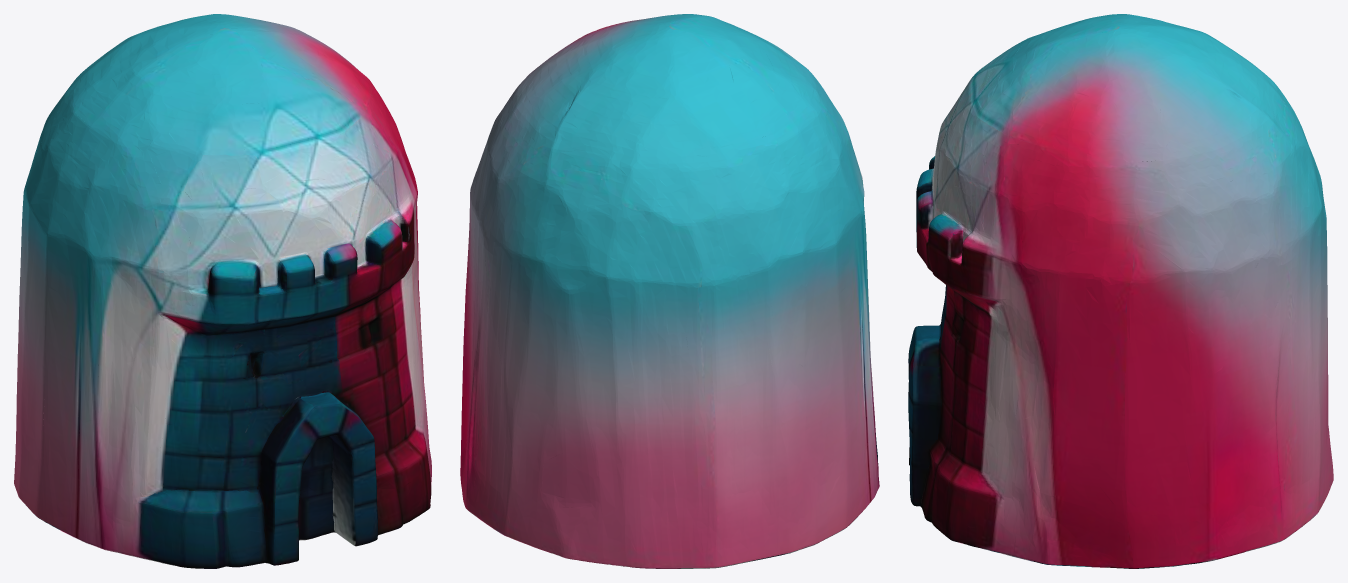
The model's file is BASTION.glb.
3 renders of one model, left to right at view 1: azimuth 30°, elevation 25°; view 2: azimuth 150°, elevation 25°; view 3: azimuth 270°, elevation 25°, orthographic.
Parts seen in each view (by area): view 1: BASTION_512; view 2: BASTION_512; view 3: BASTION_512.
Boxes of the visible parts, left/top/right/bottom form: BASTION_512: left=14, top=14, right=431, bottom=568; BASTION_512: left=460, top=14, right=879, bottom=568; BASTION_512: left=908, top=14, right=1333, bottom=568.
Bounding box in the file's own units: 1.67 × 1.99 × 1.7.
Materials: 1 (1 with a texture image).
